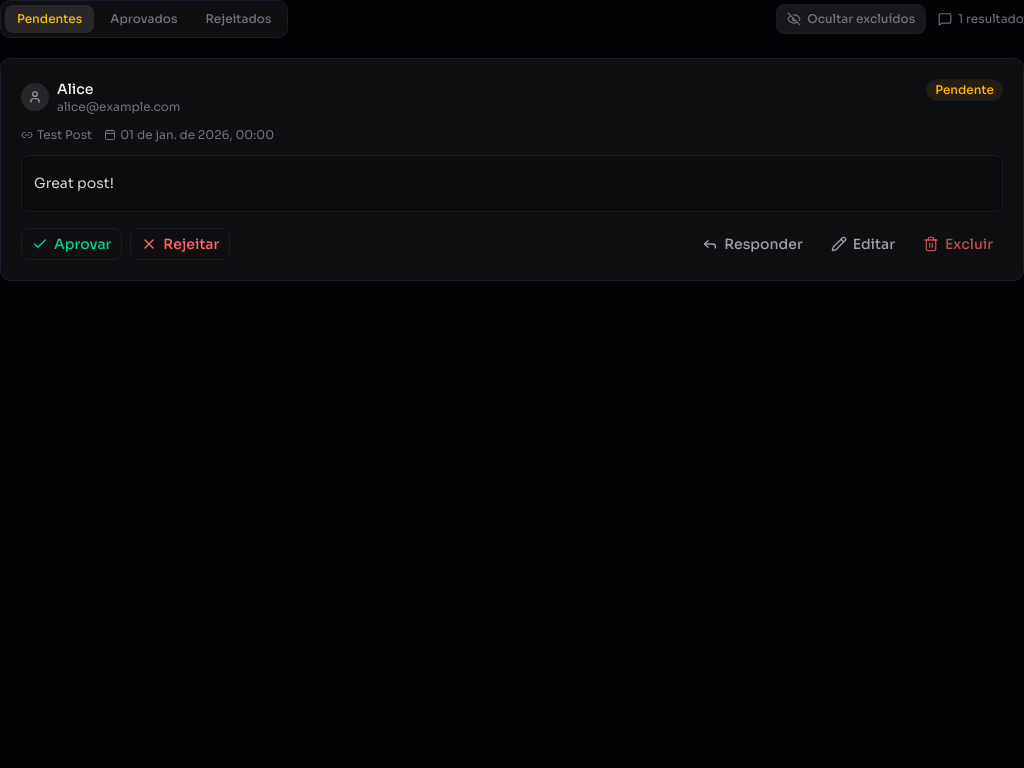
Test: CommentModerator › opens the edit dialog when the Editar button is clicked
Click the button "Editar" at (863, 244), box [821,228,905,260]
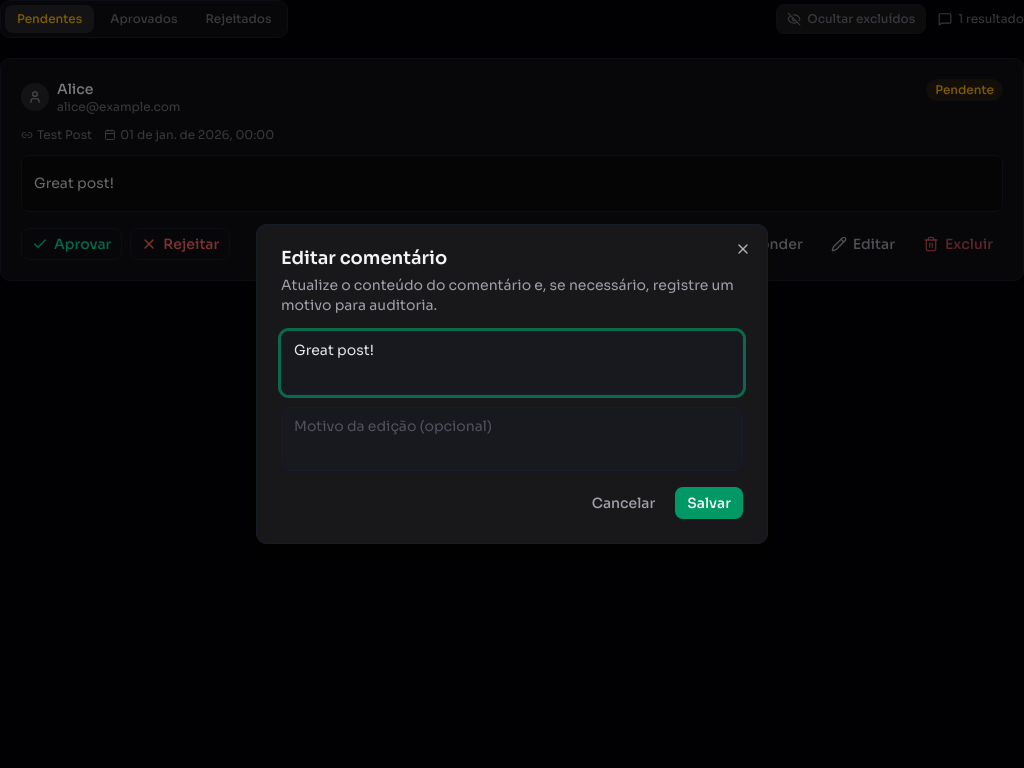
Expected: the dialog is shown, [256,224,768,544]
Expected: the heading "Editar comentário" is shown, [281,247,447,269]
